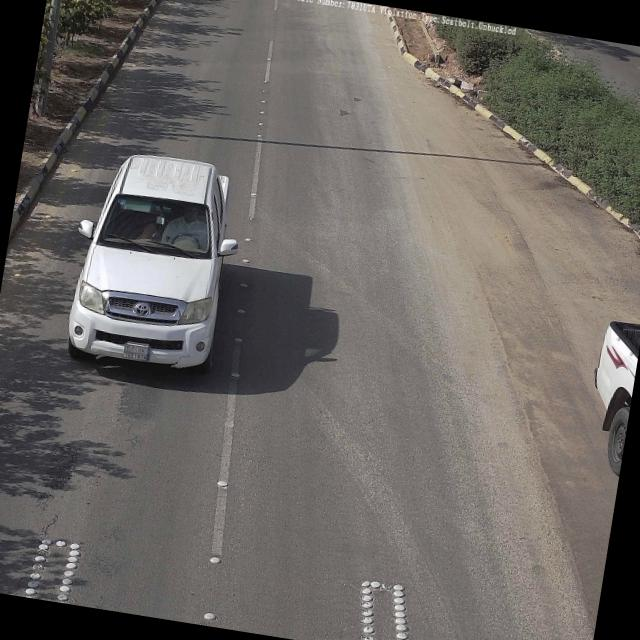person_without_seatbelt: (162, 202, 209, 244)
